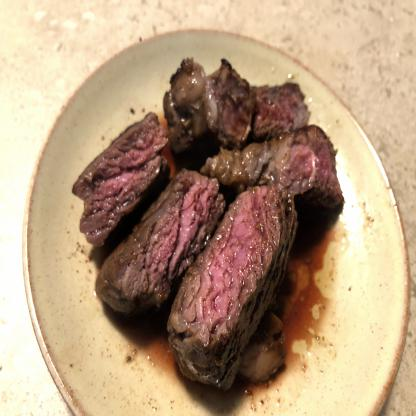Carne: (149, 185, 303, 377), (98, 164, 224, 321), (55, 116, 178, 238), (158, 51, 310, 147), (196, 135, 345, 232)
